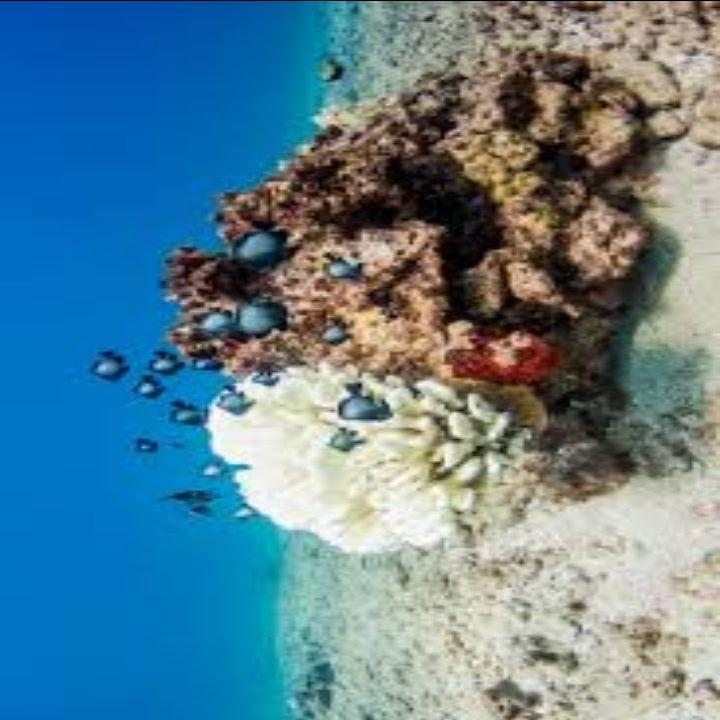Bleached disease: (211, 390, 533, 574)
Dead Coral: (150, 109, 584, 360)
